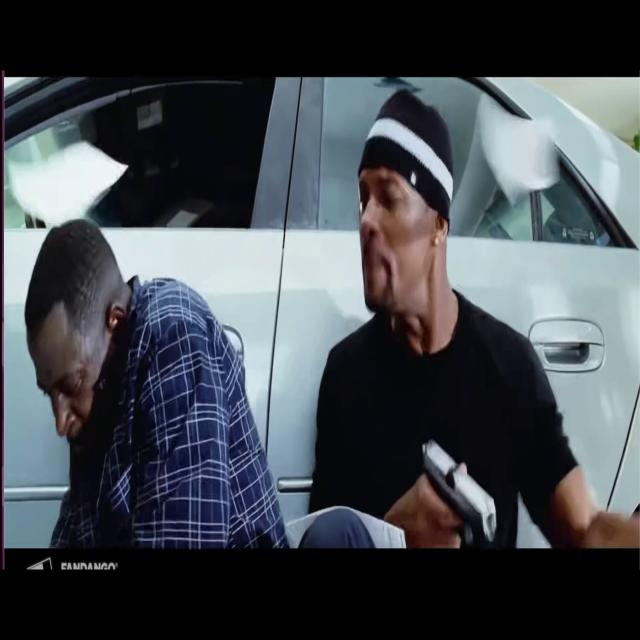weapons: (404, 408, 504, 552)
